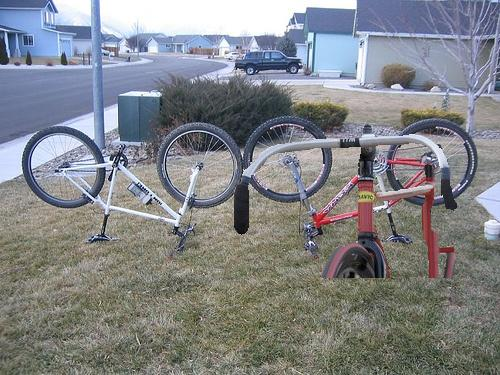tampered: (235, 125, 457, 278)
